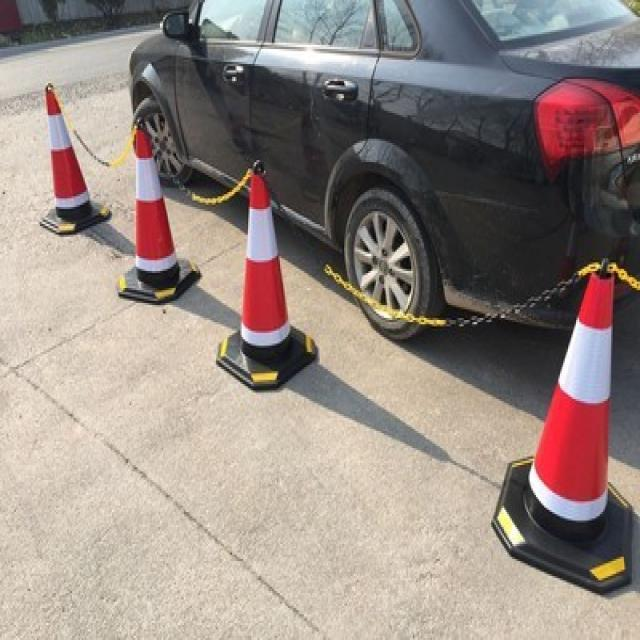car: (123, 0, 637, 348)
reflective_cone: (491, 252, 634, 589), (213, 154, 317, 390), (114, 119, 200, 301), (34, 79, 110, 232)
